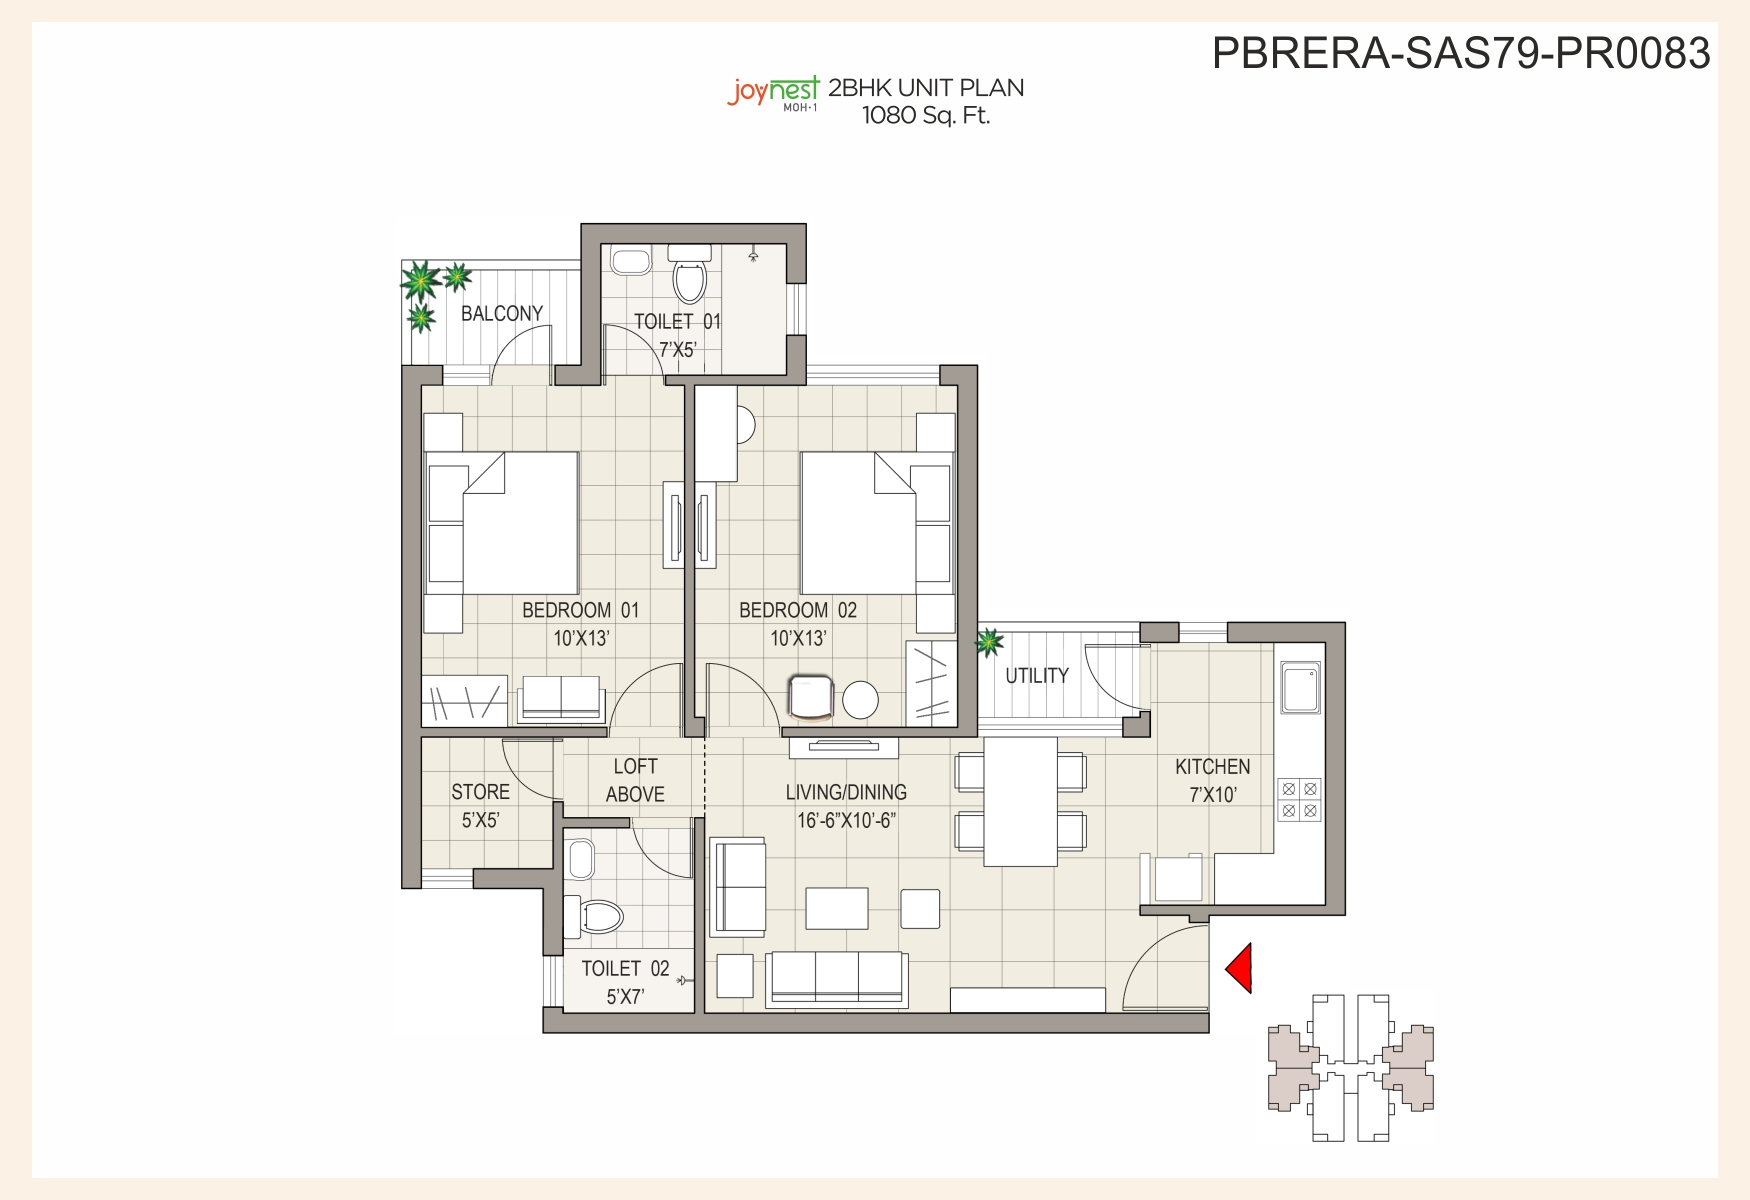door: (1118, 926, 1203, 1012), (703, 659, 781, 726), (613, 657, 682, 718), (1082, 641, 1136, 710), (489, 323, 555, 375), (632, 827, 691, 881), (501, 737, 552, 800), (601, 322, 656, 373)
